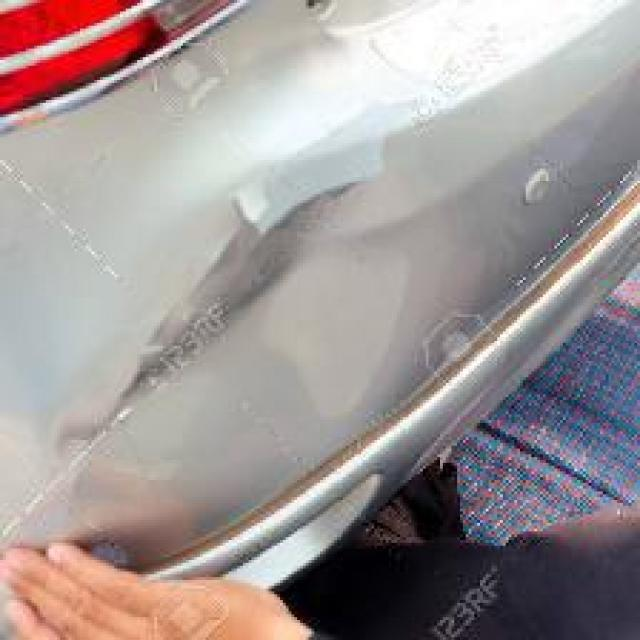damaged: (49, 148, 412, 434)
